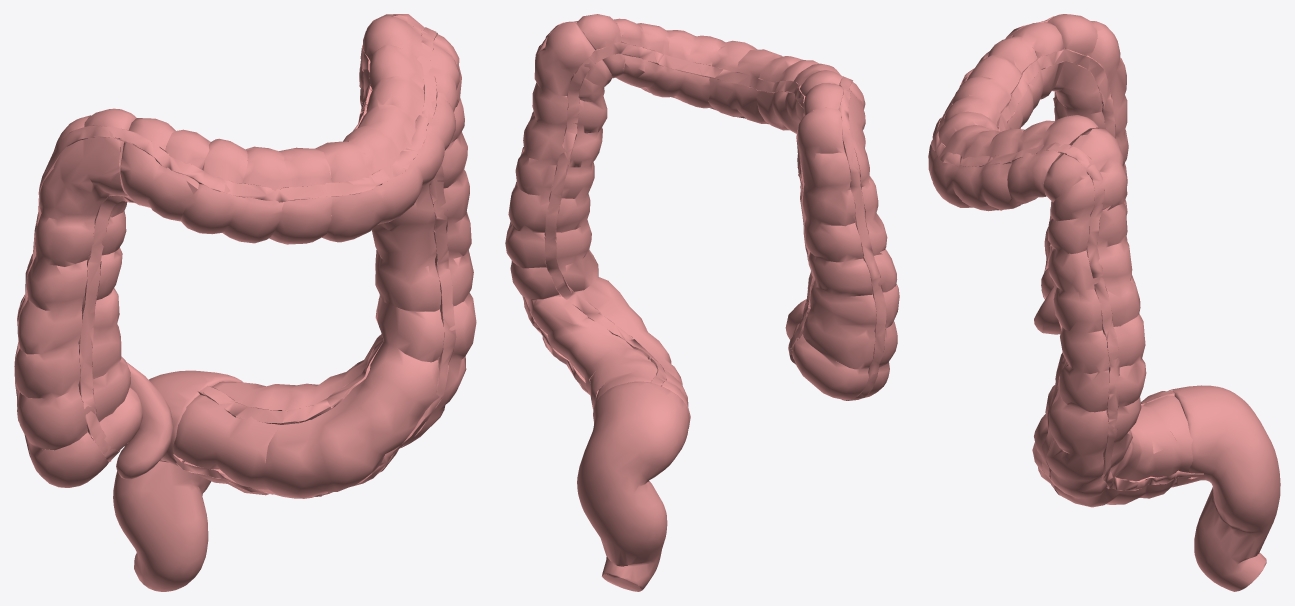
The model's file is large-intestine.glb.
3 renders of one model, left to right at view 1: azimuth 30°, elevation 25°; view 2: azimuth 150°, elevation 25°; view 3: azimuth 270°, elevation 25°, orthographic. The views are drawn at different scales.
Visible parts, largest first — view 1: FJ2567, FJ2572, FJ2566, FJ2571, FJ2568, FJ2570, FJ2599, FJ2569; view 2: FJ2567, FJ2566, FJ2571, FJ2572, FJ2569, FJ2570; view 3: FJ2567, FJ2572, FJ2571, FJ2566, FJ2570, FJ2569, FJ2568, FJ2599.
Part boxes in pixels (x1,y1,x2,y2): FJ2567: [173, 14, 476, 497]; FJ2572: [120, 15, 459, 244]; FJ2566: [14, 108, 142, 487]; FJ2571: [113, 370, 243, 591]; FJ2568: [78, 165, 456, 498]; FJ2570: [14, 27, 450, 457]; FJ2599: [116, 362, 172, 479]; FJ2569: [120, 45, 383, 424]; FJ2567: [505, 21, 690, 428]; FJ2566: [792, 83, 899, 400]; FJ2571: [577, 381, 689, 591]; FJ2572: [576, 14, 865, 133]; FJ2569: [544, 41, 814, 386]; FJ2570: [509, 21, 886, 400]; FJ2567: [1032, 128, 1192, 507]; FJ2572: [928, 22, 1099, 211]; FJ2571: [1168, 385, 1280, 591]; FJ2566: [1035, 14, 1128, 299]; FJ2570: [931, 16, 1203, 490]; FJ2569: [996, 48, 1174, 410]; FJ2568: [996, 91, 1066, 494]; FJ2599: [1034, 286, 1060, 334].
Size of the model in its own units: 0.7329 by 0.9222 by 0.5567.
